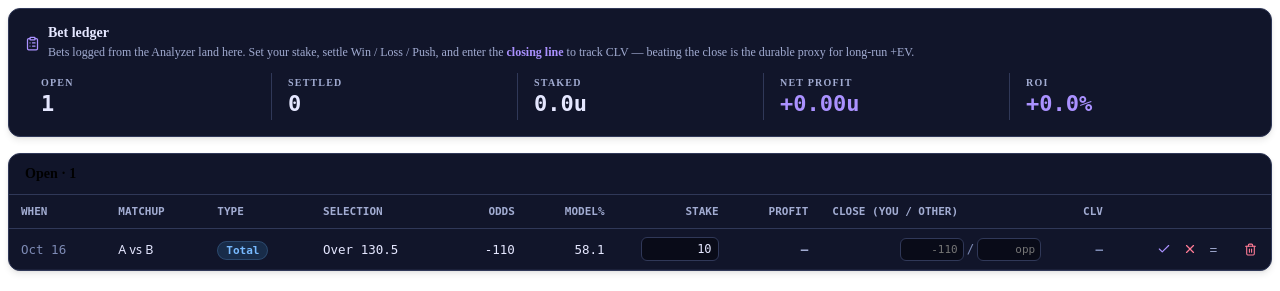
Test: BetLogger › settles a win with payout math and moves it to Settled
Expected: the text "Open · 1" is shown, [9,154,1271,195]
Click the button titled "Win" at [1164, 249], box [1154,238,1176,261]
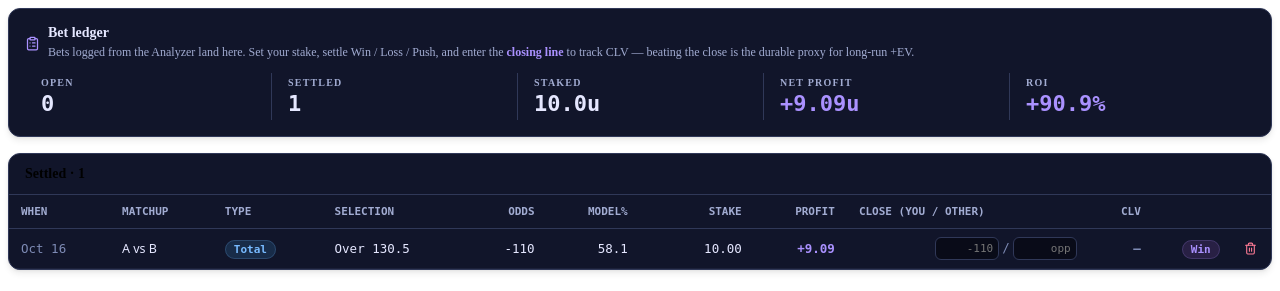
Now the text "Win" is shown, box [1182,240,1220,259]
Now the text "+9.09" is shown, box [754,229,847,269]
